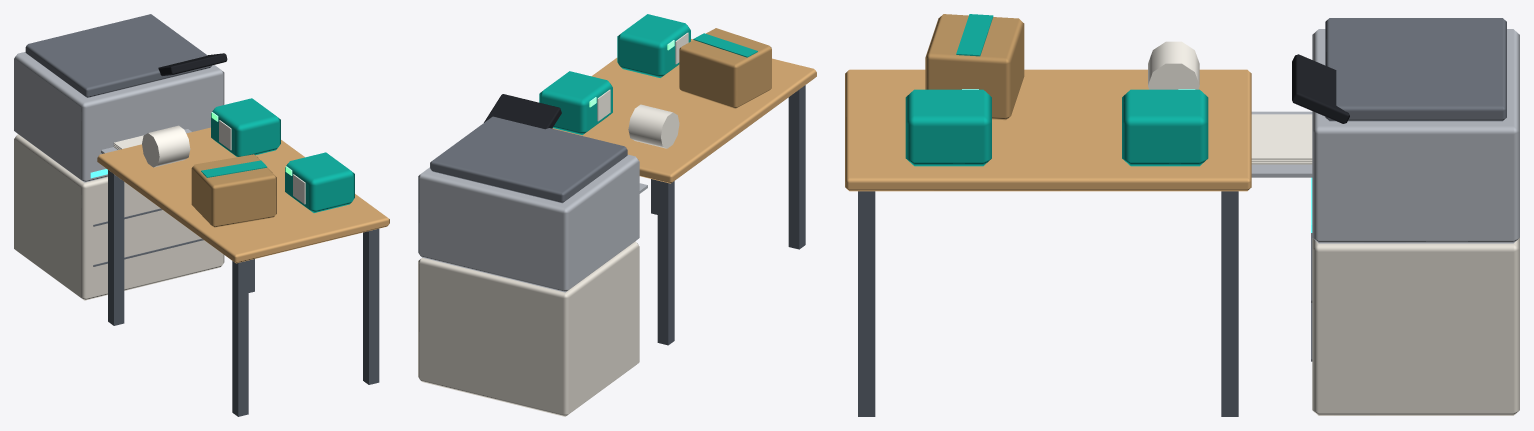
Rendered from station_intake_ausstattung_3_3.glb.
The picture shows the model from 3 angles, left to right: view 1: azimuth 30°, elevation 25°; view 2: azimuth 150°, elevation 25°; view 3: azimuth 270°, elevation 25°; orthographic projection. The views are drawn at different scales.
Parts seen in each view (by area): view 1: station_intake_ausstattung_3_3; view 2: station_intake_ausstattung_3_3; view 3: station_intake_ausstattung_3_3.
Boxes of the visible parts, x1,y1,x2,y2 form: station_intake_ausstattung_3_3: (14,14,389,416); station_intake_ausstattung_3_3: (418,14,816,416); station_intake_ausstattung_3_3: (845,14,1519,416).
Bounding box in the file's own units: 0.61 × 0.8206 × 1.56.
